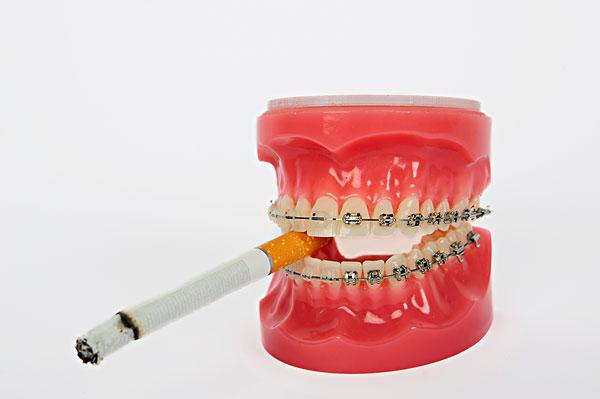smoke: (75, 227, 332, 367)
